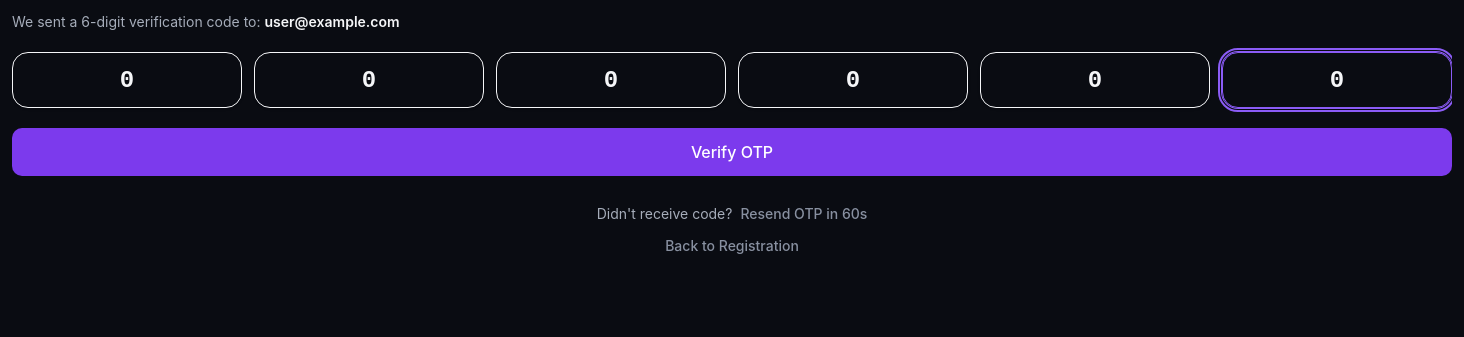
it: VerifyOtpForm › displays error message when verification fails
Click the button "Verify OTP": {"x": 732, "y": 152} [12,128,1452,176]
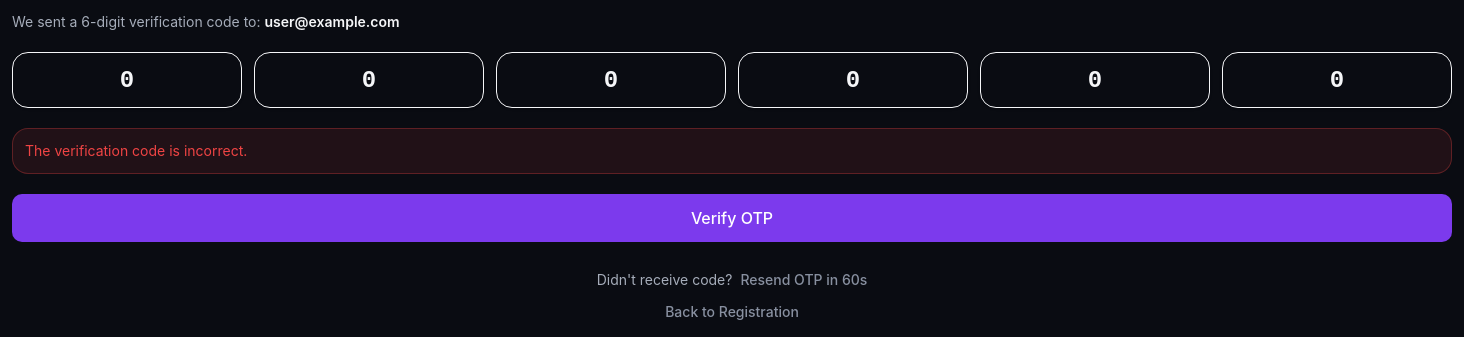
Expected: the text "The verification code is incorrect." is shown, [12,128,1452,174]
